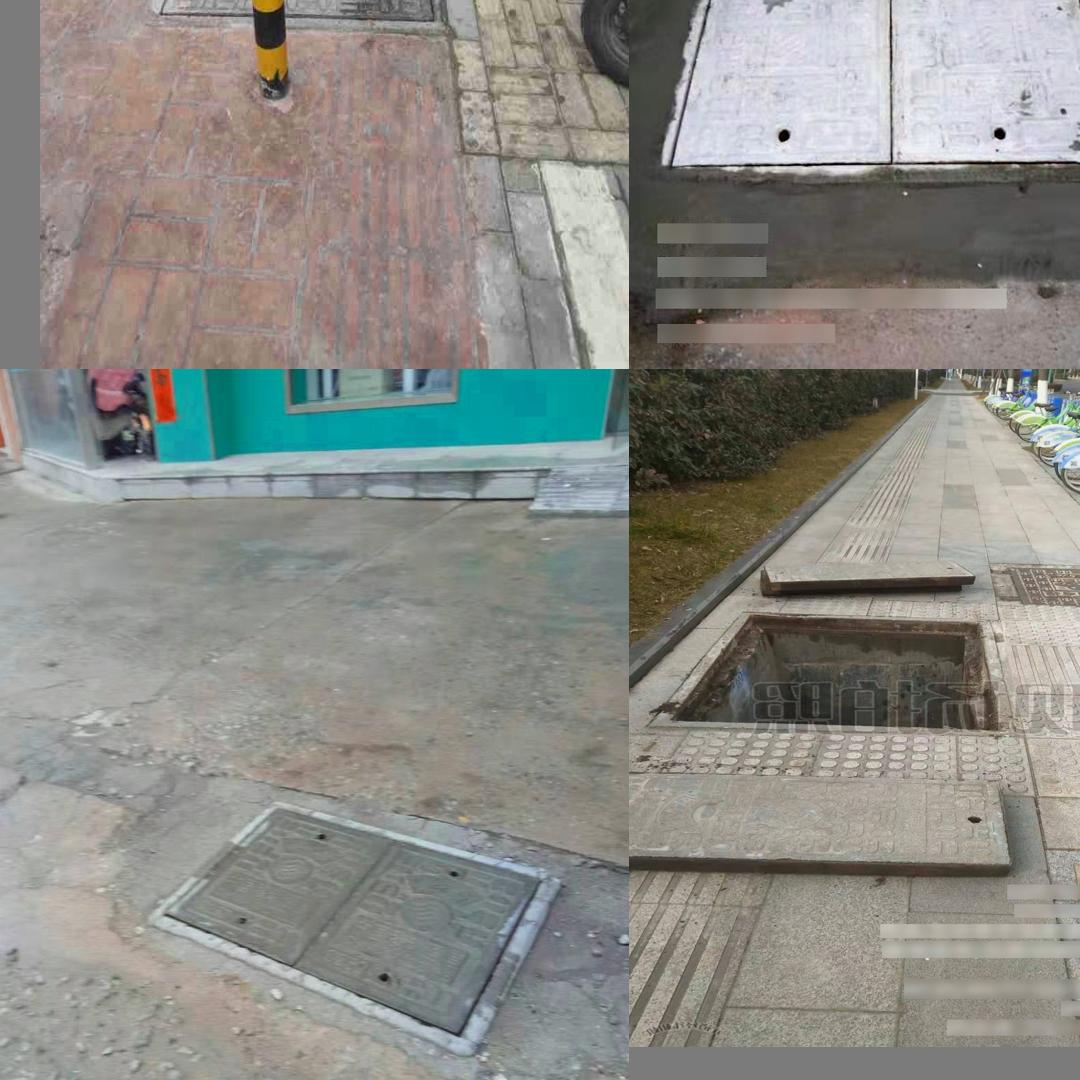good: (145, 797, 557, 1057), (662, 0, 1080, 179), (162, 0, 442, 16), (993, 559, 1080, 606)
uncovered: (629, 559, 1012, 877)
